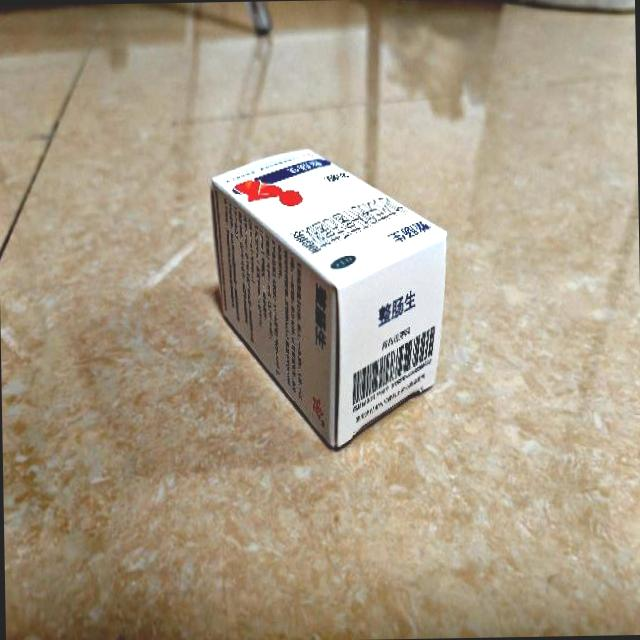box: (210, 145, 451, 452)
